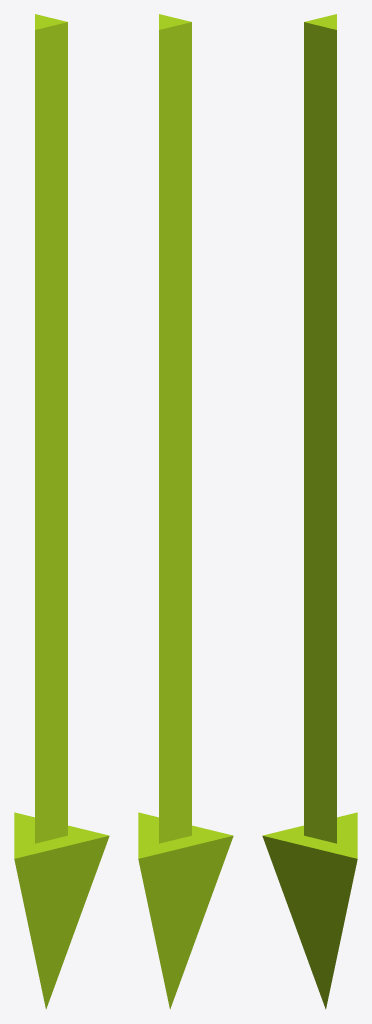
Rendered from arrowRht.obj.
The picture shows the model from 3 angles, left to right: view 1: azimuth 90°, elevation 25°; view 2: azimuth 210°, elevation 25°; view 3: azimuth 270°, elevation 25°; orthographic projection.
Parts seen in each view (by area): view 1: Cylinder; view 2: Cylinder; view 3: Cylinder.
Boxes of the visible parts, bbox=[...] form: Cylinder: bbox=[14, 14, 109, 1009]; Cylinder: bbox=[138, 14, 233, 1009]; Cylinder: bbox=[262, 14, 357, 1009].
Bounding box in the file's own units: 0.1719 × 1.7 × 0.1489.
1 material, 1 textured.
